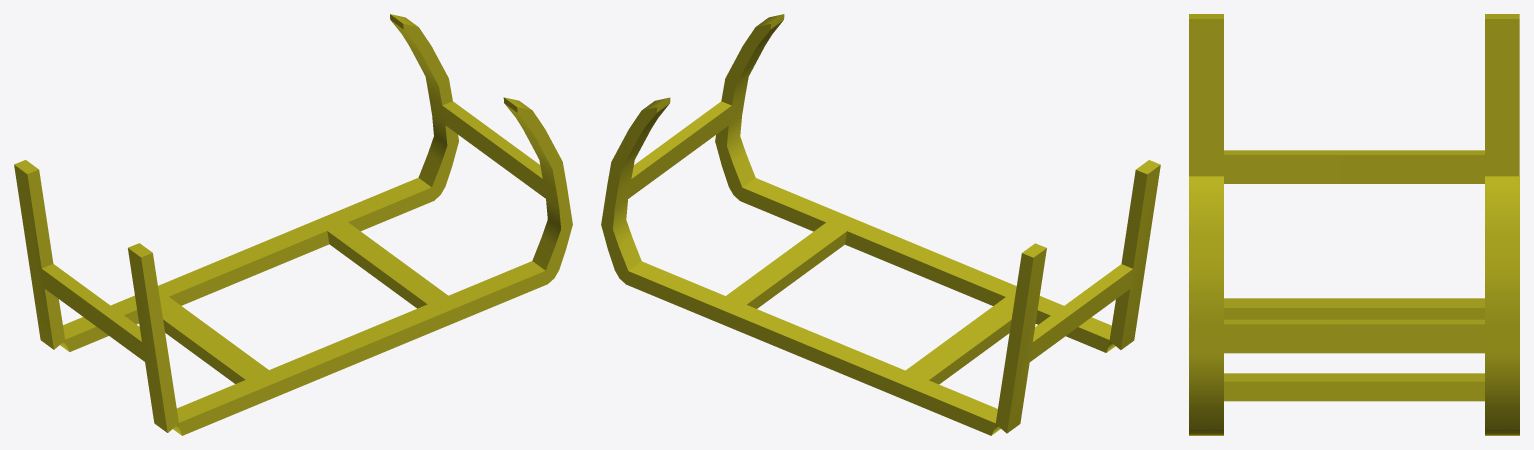
Rendered from LogKeeper.fbx.
3 views of the same model, side by side, from view 1: azimuth 30°, elevation 25°; view 2: azimuth 150°, elevation 25°; view 3: azimuth 270°, elevation 25° (orthographic). The views are drawn at different scales.
Visible parts, largest first — view 1: LogKeeperBody, LogKeeper_Hatch; view 2: LogKeeperBody, LogKeeper_Hatch; view 3: LogKeeperBody, LogKeeper_Hatch.
Boxes of the visible parts, left/top/right/bottom form: LogKeeperBody: left=60, top=14, right=572, bottom=435; LogKeeper_Hatch: left=14, top=160, right=178, bottom=432; LogKeeperBody: left=601, top=14, right=1115, bottom=435; LogKeeper_Hatch: left=996, top=160, right=1160, bottom=433; LogKeeperBody: left=1189, top=176, right=1519, bottom=435; LogKeeper_Hatch: left=1189, top=14, right=1519, bottom=183.
Size of the model in its own units: 1118 by 612 by 570.
